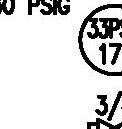instrumenttag: (77, 2, 122, 75)
